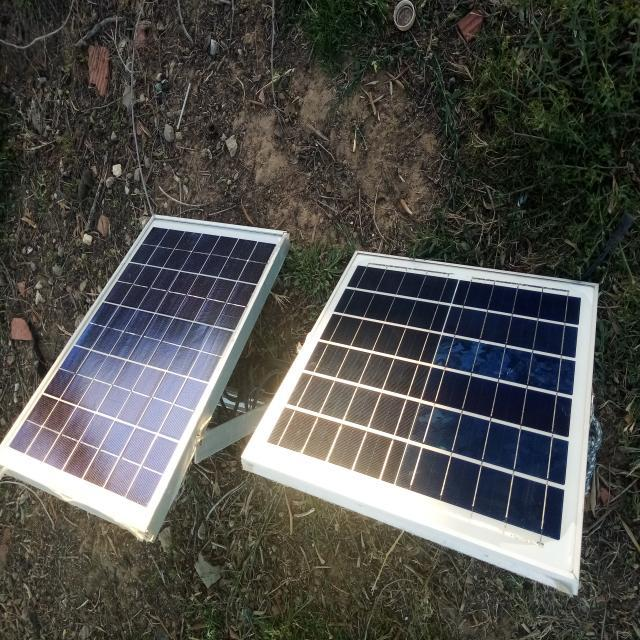no faulty: (244, 250, 596, 583), (0, 217, 286, 531)
